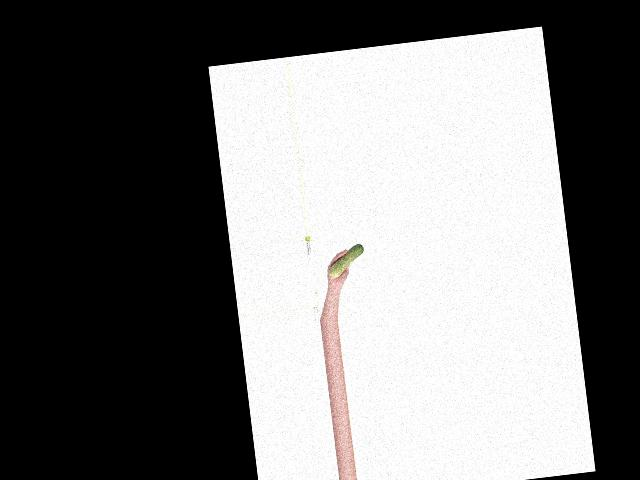cucumber: (326, 244, 366, 279)
